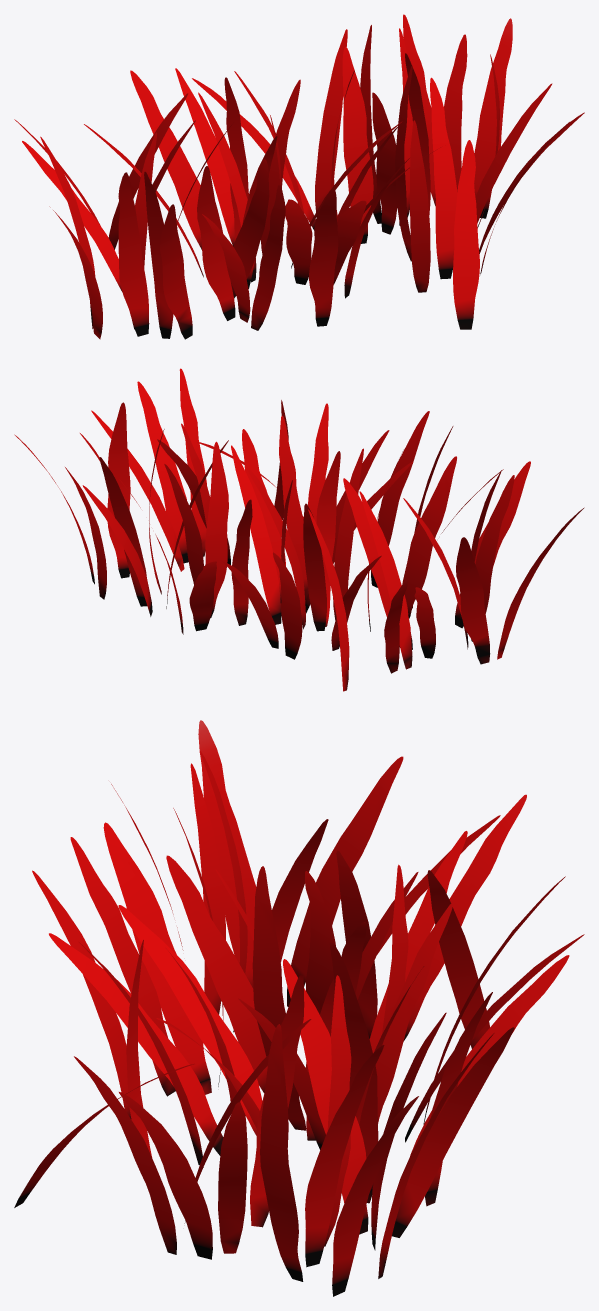
Rendered from SM_stylized_grass_var_01_lod2.fbx.
The picture shows the model from 3 angles, top to bottom: view 1: azimuth 30°, elevation 25°; view 2: azimuth 150°, elevation 25°; view 3: azimuth 270°, elevation 25°; orthographic projection. The views are drawn at different scales.
Parts seen in each view (by area): view 1: stylized_grass_var_01_lod2.001; view 2: stylized_grass_var_01_lod2.001; view 3: stylized_grass_var_01_lod2.001.
Part boxes in pixels (x1,y1,x2,y2): stylized_grass_var_01_lod2.001: (14,14,584,339); stylized_grass_var_01_lod2.001: (14,368,584,691); stylized_grass_var_01_lod2.001: (14,720,584,1296).
Size of the model in its own units: 190 by 62.9 by 121.
